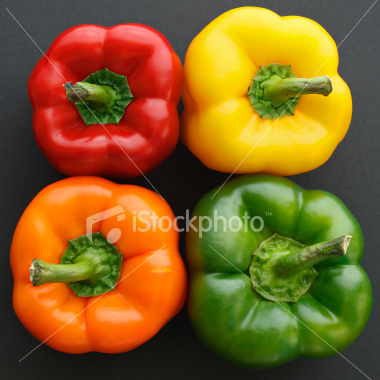capsicum: (184, 171, 372, 376), (8, 175, 190, 356), (184, 4, 351, 177), (29, 21, 182, 177)
